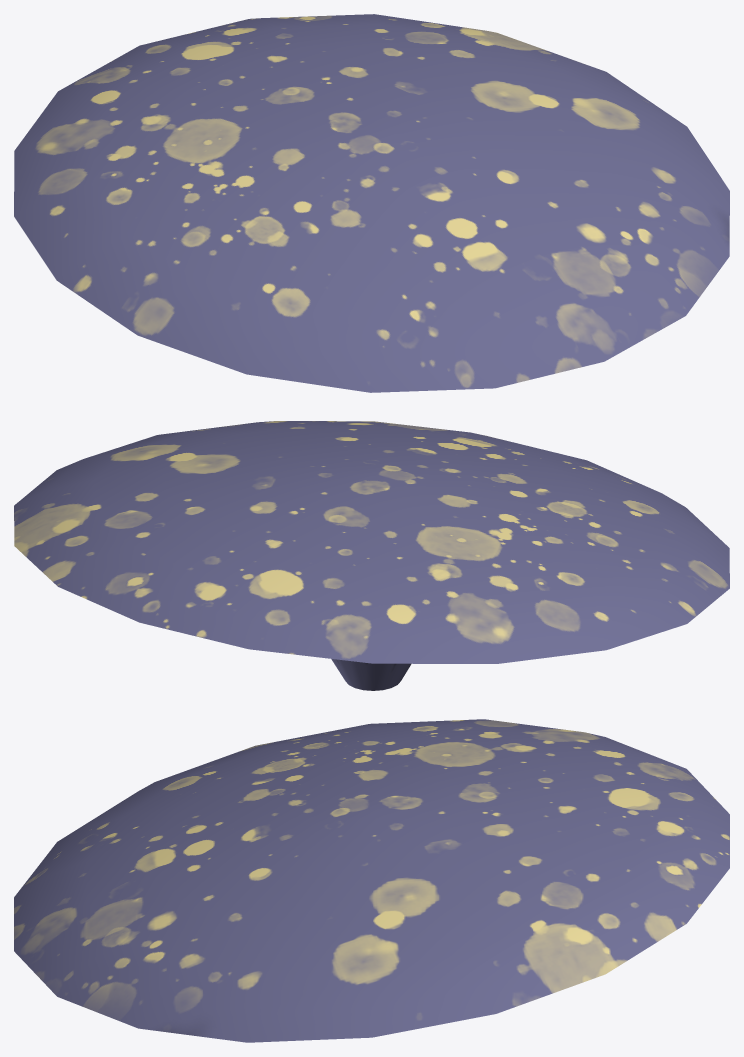
The model's file is MushroomCap1.fbx.
The picture shows the model from 3 angles, top to bottom: view 1: azimuth 30°, elevation 25°; view 2: azimuth 150°, elevation 25°; view 3: azimuth 270°, elevation 25°; orthographic projection.
Parts seen in each view (by area): view 1: Cap1; view 2: Cap1; view 3: Cap1.
Boxes of the visible parts, left/top/right/bottom form: Cap1: left=14, top=14, right=729, bottom=392; Cap1: left=14, top=421, right=729, bottom=690; Cap1: left=14, top=719, right=729, bottom=1042.
Bounding box in the file's own units: 8.93 × 2.84 × 8.72.
